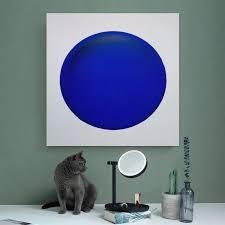blue_circle: (59, 31, 167, 130)
